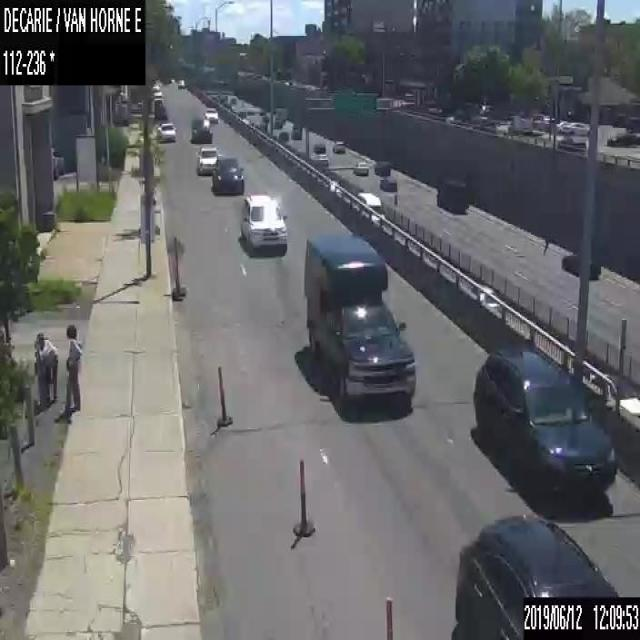construction: (292, 455, 314, 536), (214, 365, 232, 427), (171, 252, 181, 301), (382, 594, 392, 638)
pedestrian: (58, 323, 82, 420), (32, 329, 59, 415)
vehicle: (473, 346, 616, 497), (453, 511, 618, 638), (303, 231, 415, 413), (241, 194, 287, 256), (590, 370, 639, 418), (210, 154, 243, 192), (437, 177, 469, 212), (356, 189, 384, 216), (195, 146, 218, 174), (561, 253, 582, 279), (190, 118, 212, 141), (606, 131, 634, 146), (558, 135, 586, 149), (155, 122, 176, 140), (563, 121, 589, 135), (379, 174, 397, 192), (374, 158, 389, 176), (274, 106, 286, 127), (203, 106, 218, 122), (311, 152, 328, 166), (353, 159, 367, 175), (552, 119, 568, 133), (291, 124, 302, 140), (332, 139, 344, 153), (154, 105, 166, 119), (312, 141, 326, 152), (591, 260, 599, 279), (278, 129, 288, 140), (152, 85, 162, 96), (178, 77, 185, 88)
